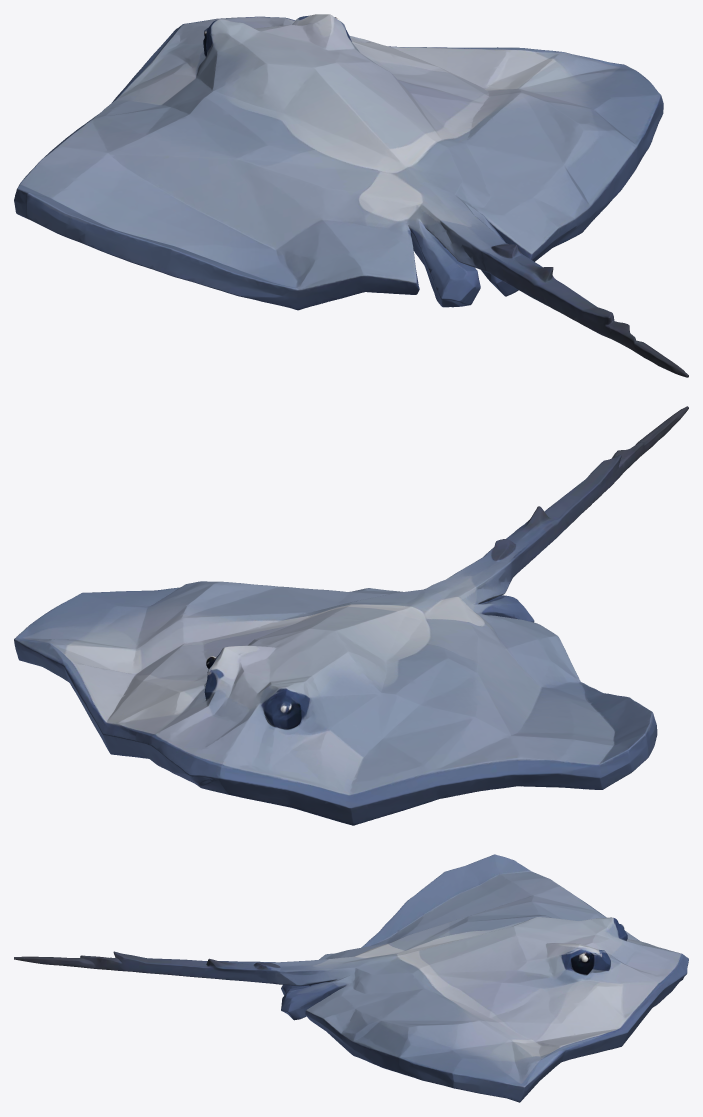
Rendered from mantarraya.glb.
The picture shows the model from 3 angles, top to bottom: view 1: azimuth 30°, elevation 25°; view 2: azimuth 150°, elevation 25°; view 3: azimuth 270°, elevation 25°; orthographic projection. The views are drawn at different scales.
Parts seen in each view (by area): view 1: tripo_node_0948a4ad-88a9-479a-a028-24dd7c148699; view 2: tripo_node_0948a4ad-88a9-479a-a028-24dd7c148699; view 3: tripo_node_0948a4ad-88a9-479a-a028-24dd7c148699.
Boxes of the visible parts, <box> form: tripo_node_0948a4ad-88a9-479a-a028-24dd7c148699: <box>14,14,688,377</box>; tripo_node_0948a4ad-88a9-479a-a028-24dd7c148699: <box>14,406,688,825</box>; tripo_node_0948a4ad-88a9-479a-a028-24dd7c148699: <box>14,854,688,1102</box>.
Size of the model in its own units: 0.727 by 0.1453 by 1.
Materials: 1 (1 with a texture image).
